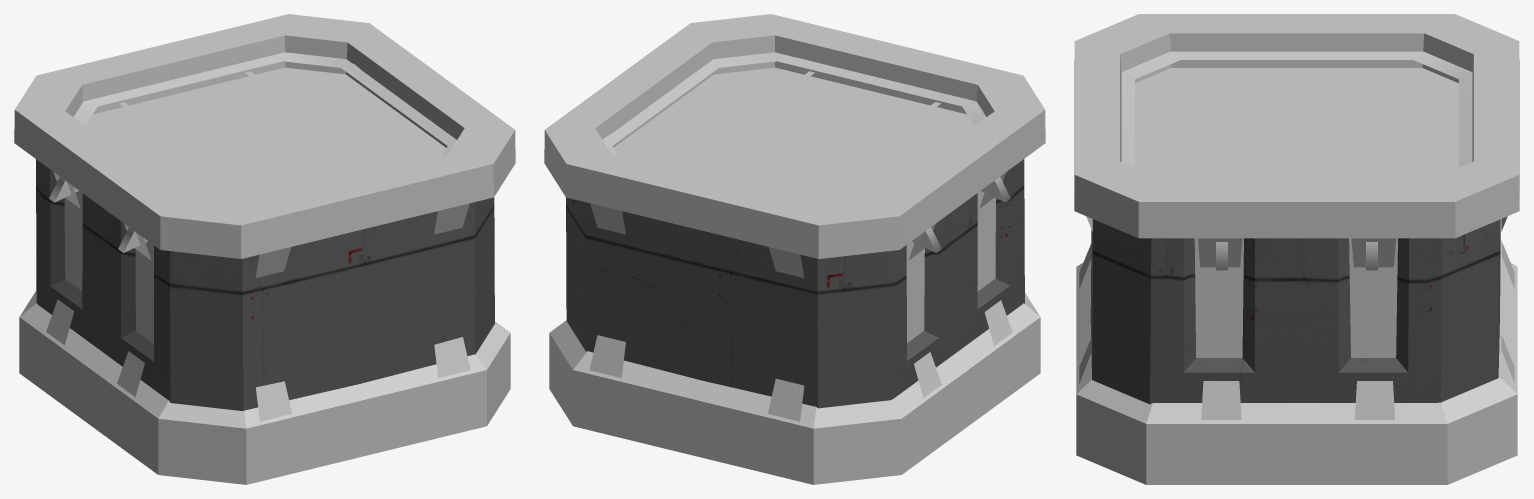
Rendered from Prop_Went_big2_L2.fbx.
3 renders of one model, left to right at view 1: azimuth 30°, elevation 25°; view 2: azimuth 150°, elevation 25°; view 3: azimuth 270°, elevation 25°, orthographic. The views are drawn at different scales.
Visible parts, largest first — view 1: polySurface245; view 2: polySurface245; view 3: polySurface245.
Boxes of the visible parts, x1=… form: polySurface245: x1=14, y1=14, x2=515, y2=484; polySurface245: x1=544, y1=14, x2=1045, y2=484; polySurface245: x1=1074, y1=14, x2=1519, y2=484.
Size of the model in its own units: 149 by 104 by 148.
